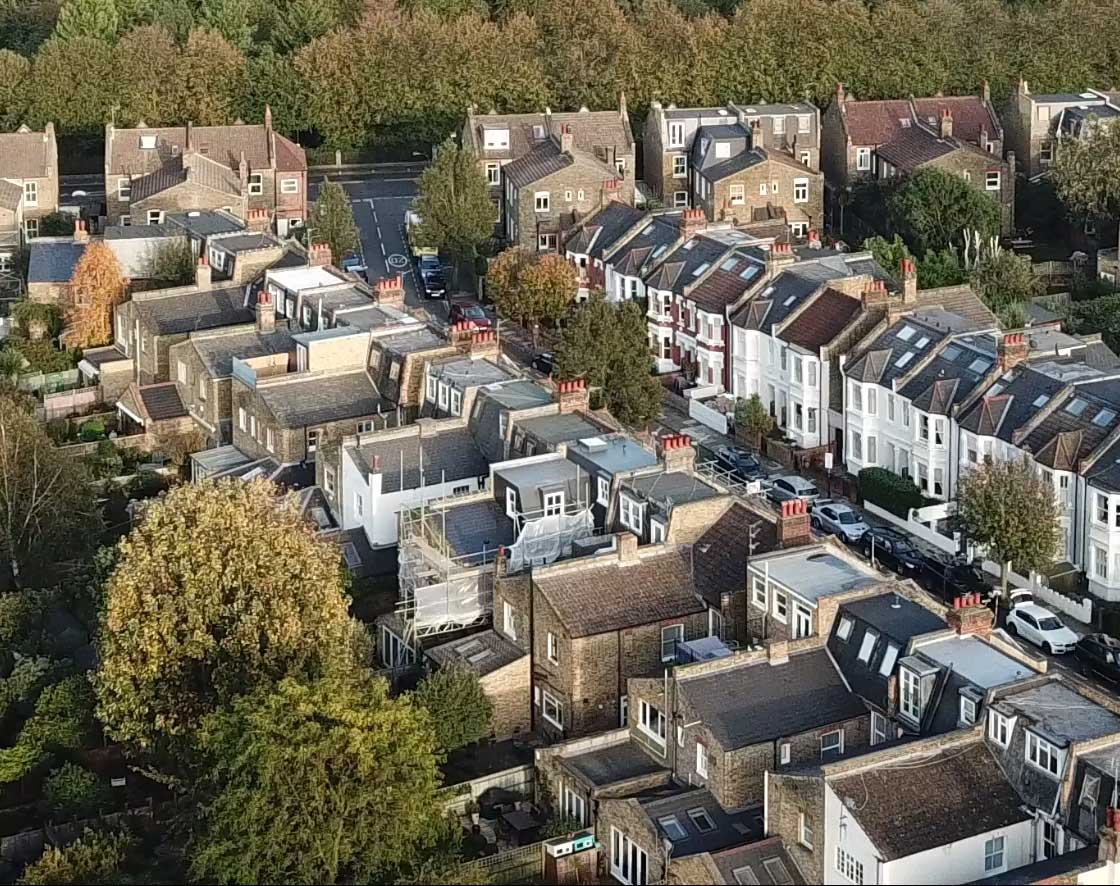tree: (74, 457, 377, 744), (224, 670, 453, 881), (949, 446, 1060, 592), (1, 383, 64, 578), (51, 240, 148, 365)
